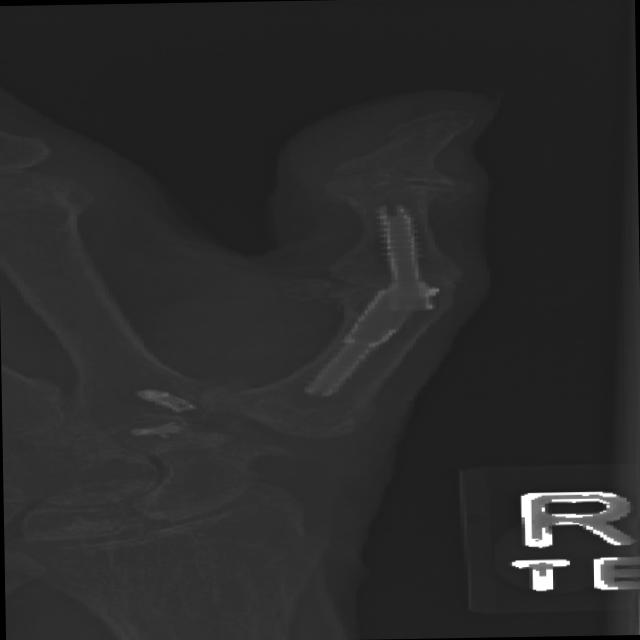fingers positive: (294, 136, 436, 227)
